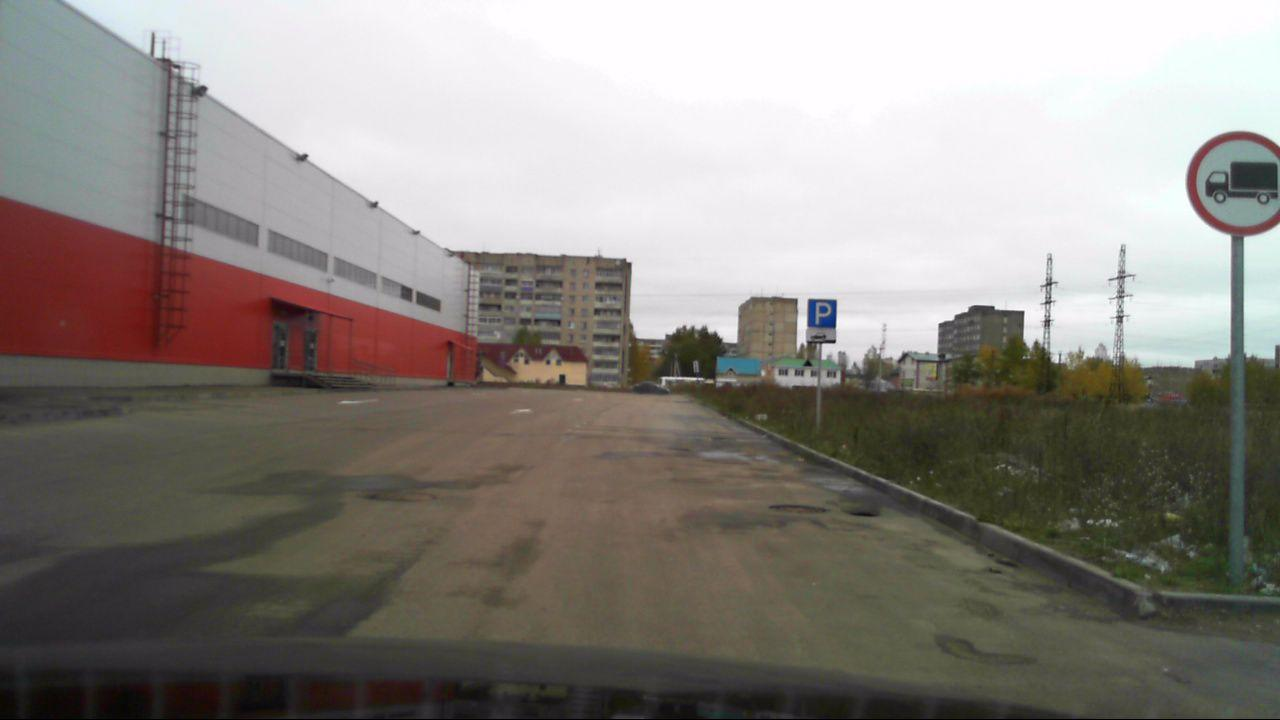3_4: (1181, 130, 1280, 239)
6_4: (807, 297, 836, 327)
8_6_5: (806, 327, 836, 344)
